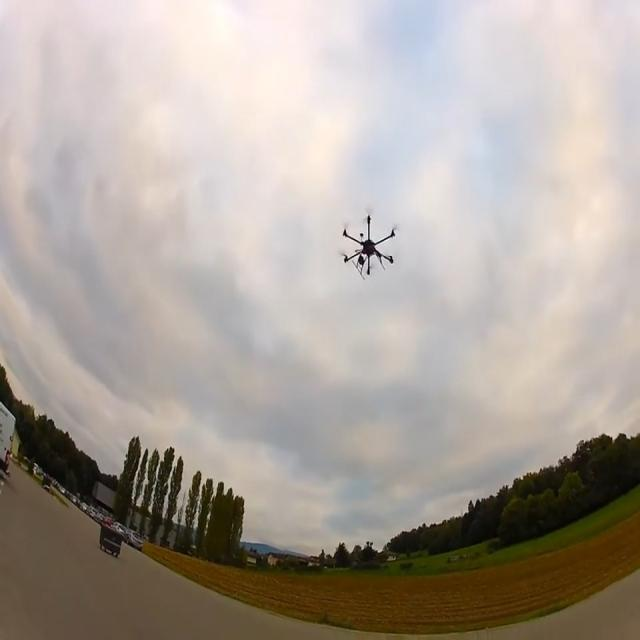drone: (342, 214, 398, 278)
